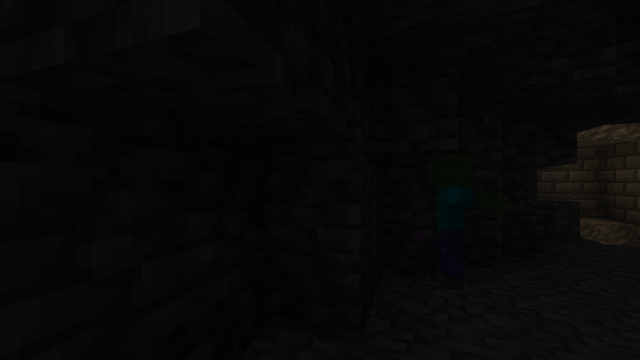zombies: (425, 156, 472, 292)
